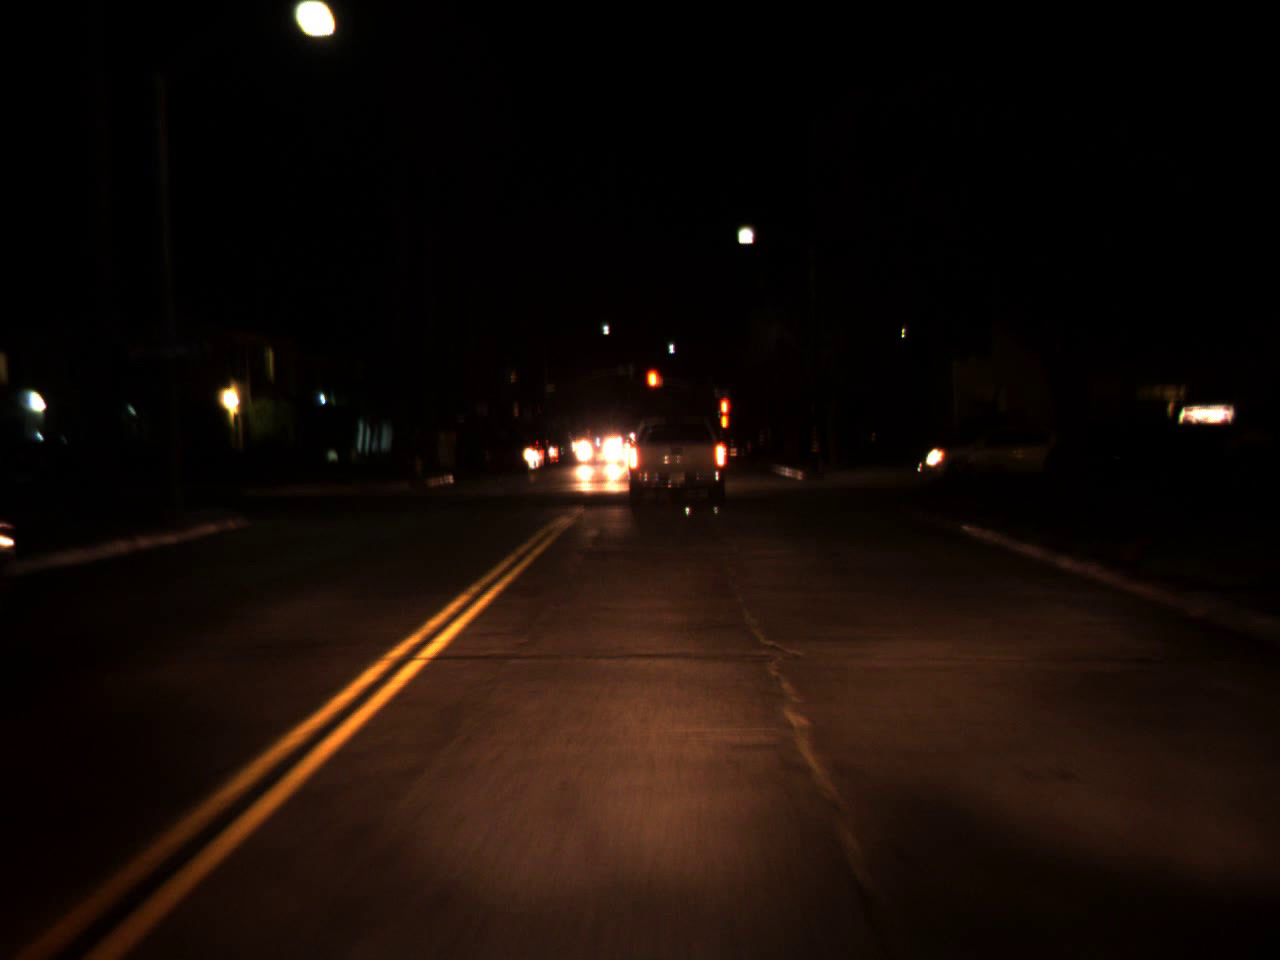stop: (645, 366, 663, 409), (720, 399, 727, 426)
